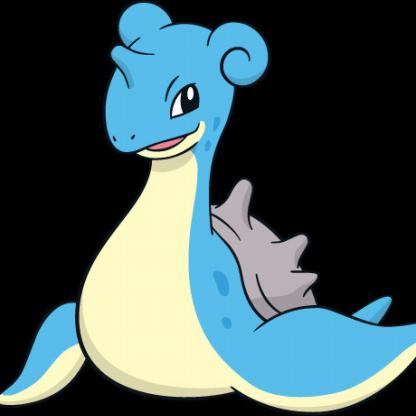Lapras: (1, 1, 416, 410)
